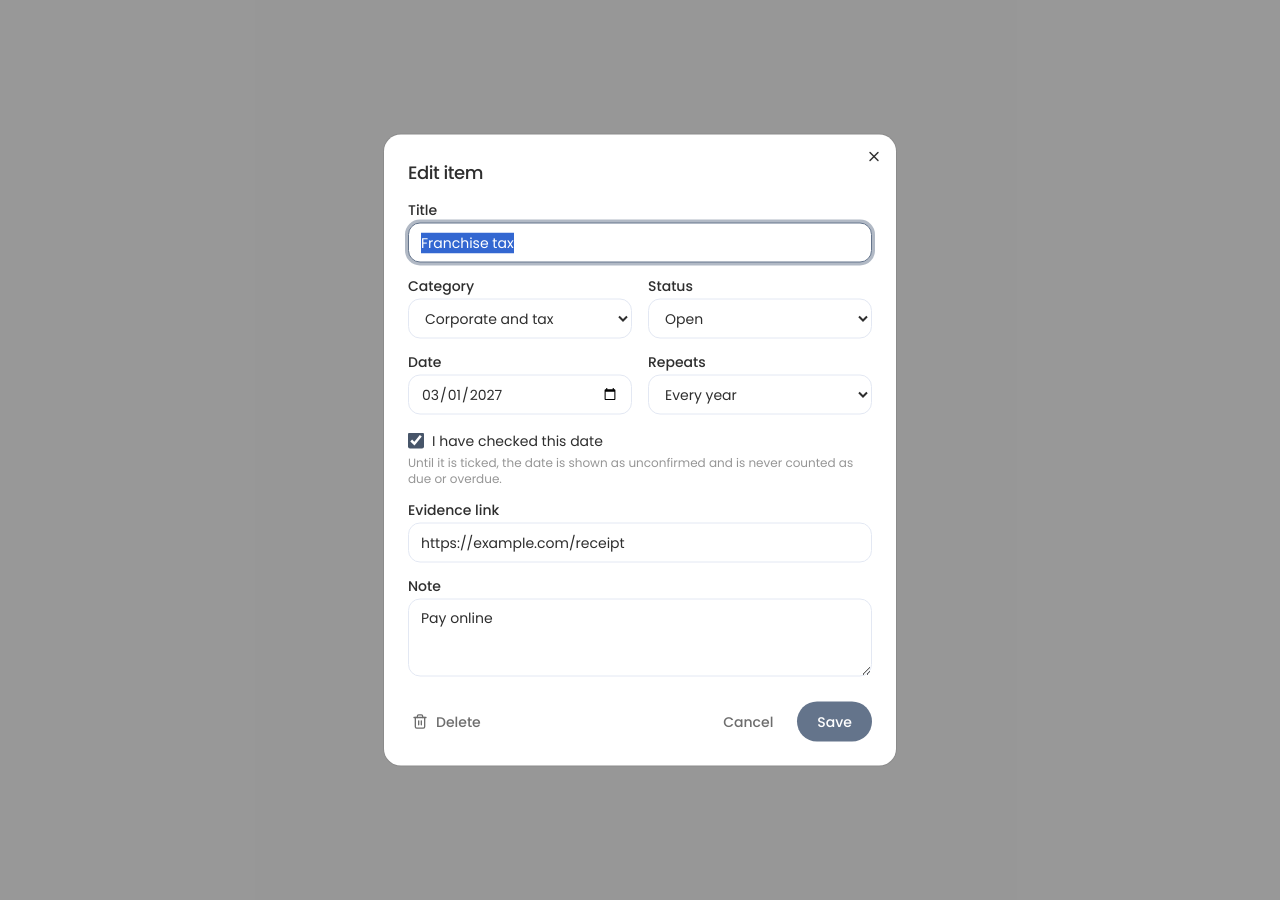
ObligationEditor: editing › a failed delete is shown, and the item is still there to edit
This screenshot has width=1280, height=900.
Click the button "Delete": (446, 722) [396,702,497,742]
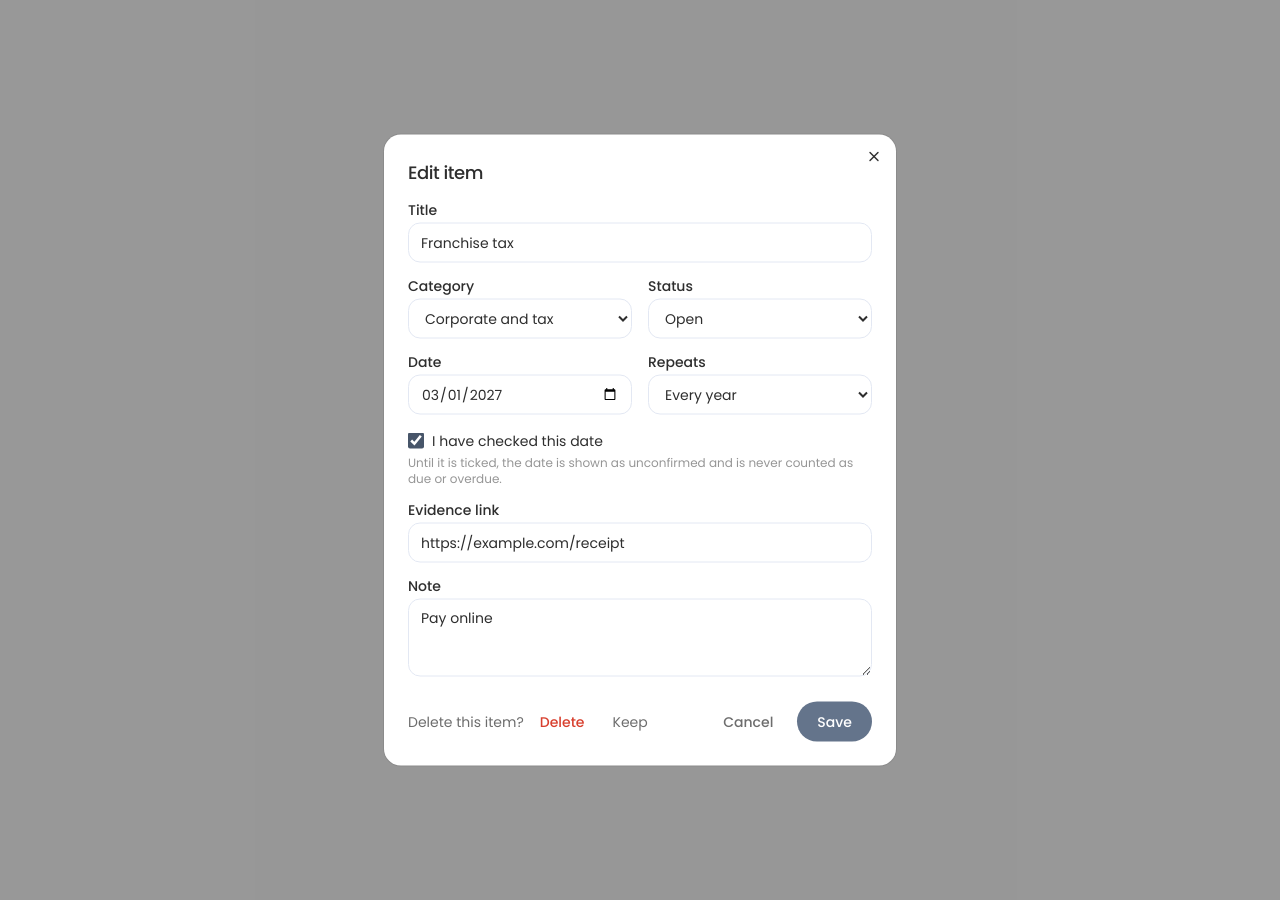
Click the button "Delete": (562, 722) [528,706,597,738]
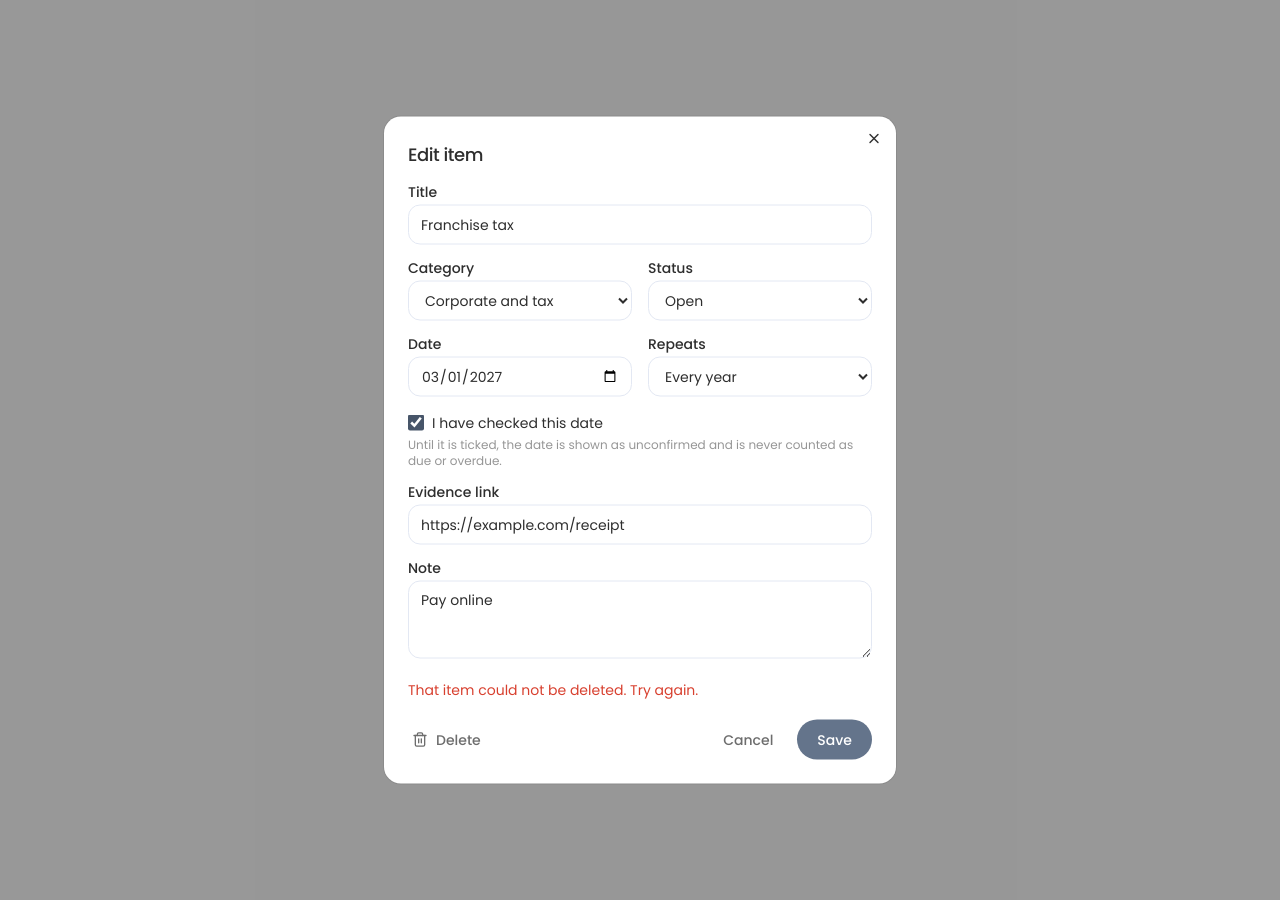
Check: the message reads "That item could not be deleted. Try again.", box [408,680,698,700]
